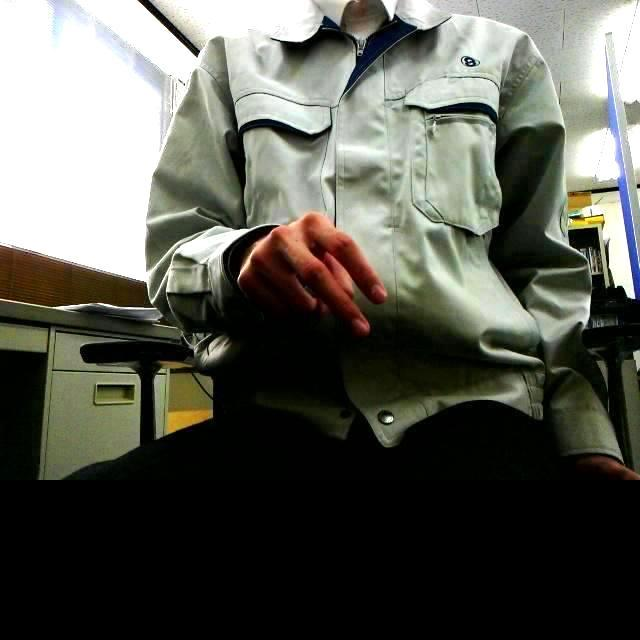tyoki: (239, 209, 388, 335)
